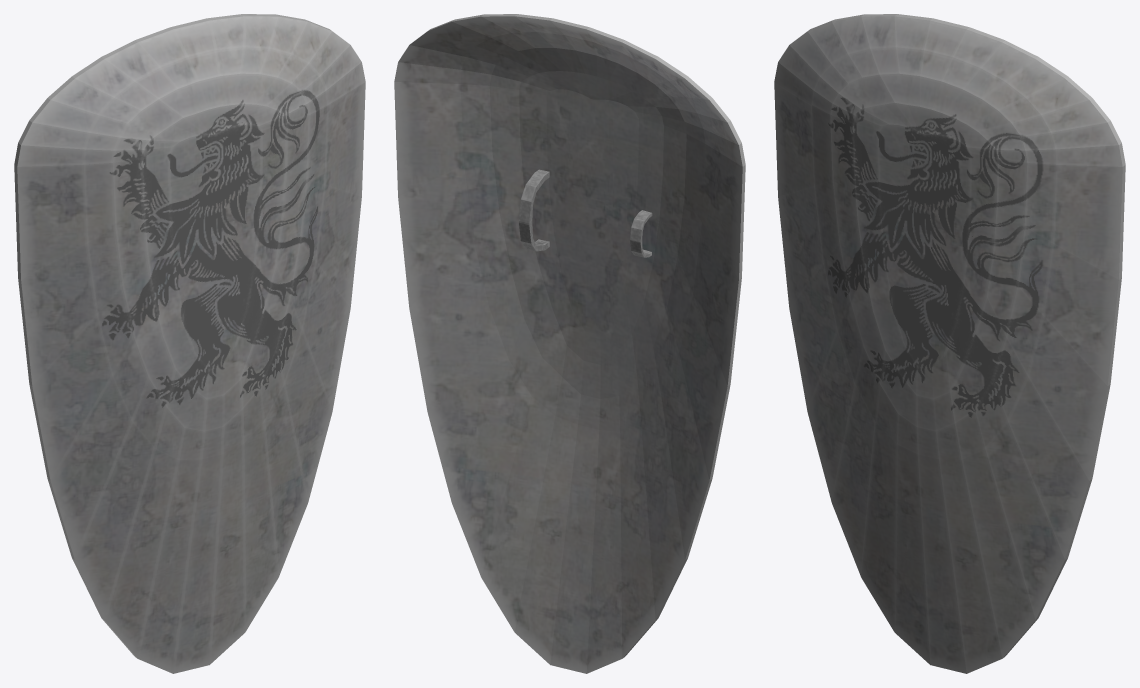
The model's file is Shield.fbx.
The picture shows the model from 3 angles, left to right: view 1: azimuth 30°, elevation 25°; view 2: azimuth 150°, elevation 25°; view 3: azimuth 330°, elevation 25°; orthographic projection.
Parts seen in each view (by area): view 1: Shield; view 2: Shield, Handle; view 3: Shield.
Part boxes in pixels (bbox=[...]): Shield: bbox=[14, 14, 365, 673]; Shield: bbox=[394, 14, 745, 673]; Handle: bbox=[519, 169, 652, 257]; Shield: bbox=[774, 14, 1125, 673].
Bounding box in the file's own units: 66.54 × 118 × 9.
Materials: 1 (1 with a texture image).
